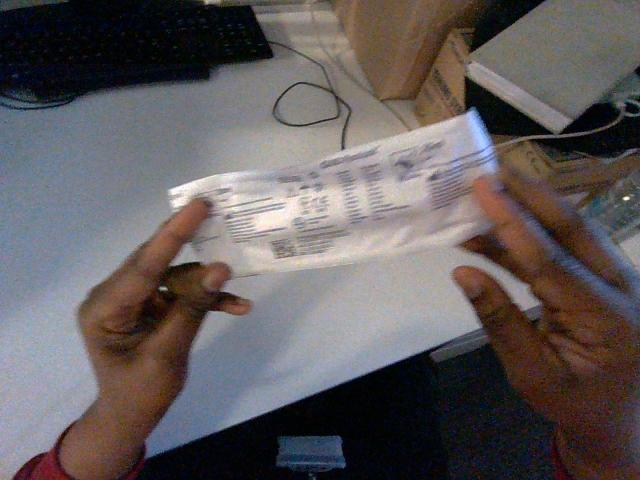syringe: (169, 110, 496, 276)
